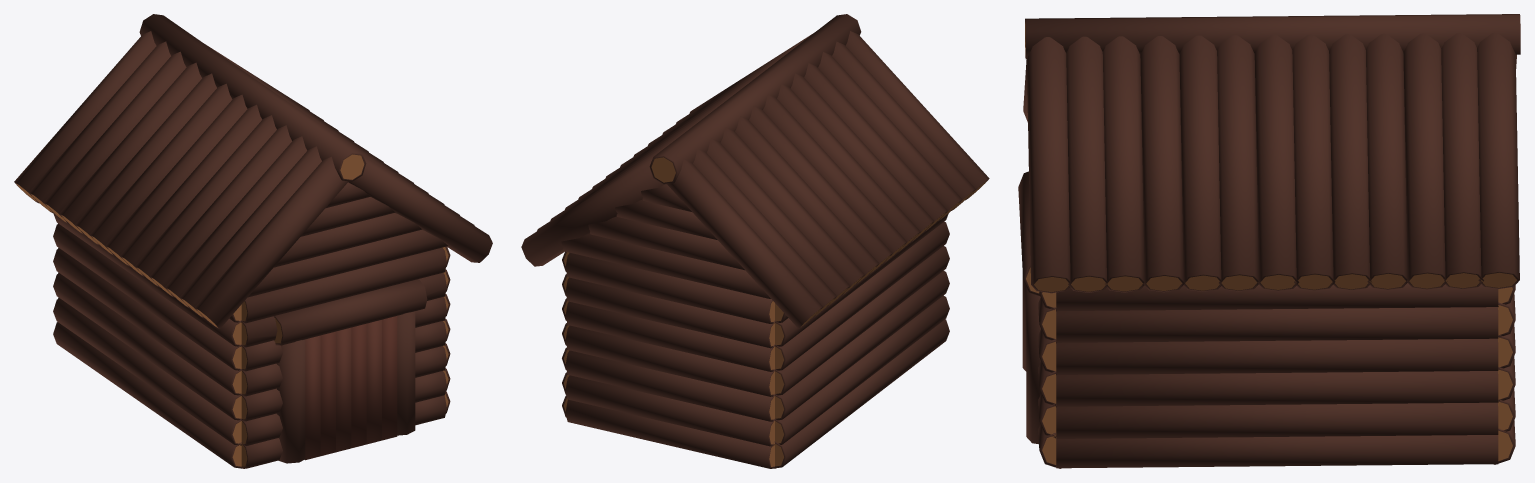
File: merde.fbx
The picture shows the model from 3 angles, left to right: view 1: azimuth 30°, elevation 25°; view 2: azimuth 150°, elevation 25°; view 3: azimuth 270°, elevation 25°; orthographic projection. The views are drawn at different scales.
Parts seen in each view (by area): view 1: house.008; view 2: house.008; view 3: house.008.
Boxes of the visible parts, x1,y1,x2,y2 form: house.008: (14,14,492,468); house.008: (521,14,989,468); house.008: (1018,14,1520,468).
Bounding box in the file's own units: 517 × 492 × 580.
